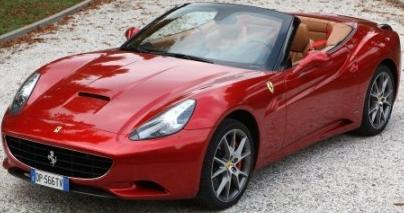front_view: (6, 70, 205, 198)
headlight: (131, 91, 201, 146)
side_glass: (266, 10, 356, 61)
